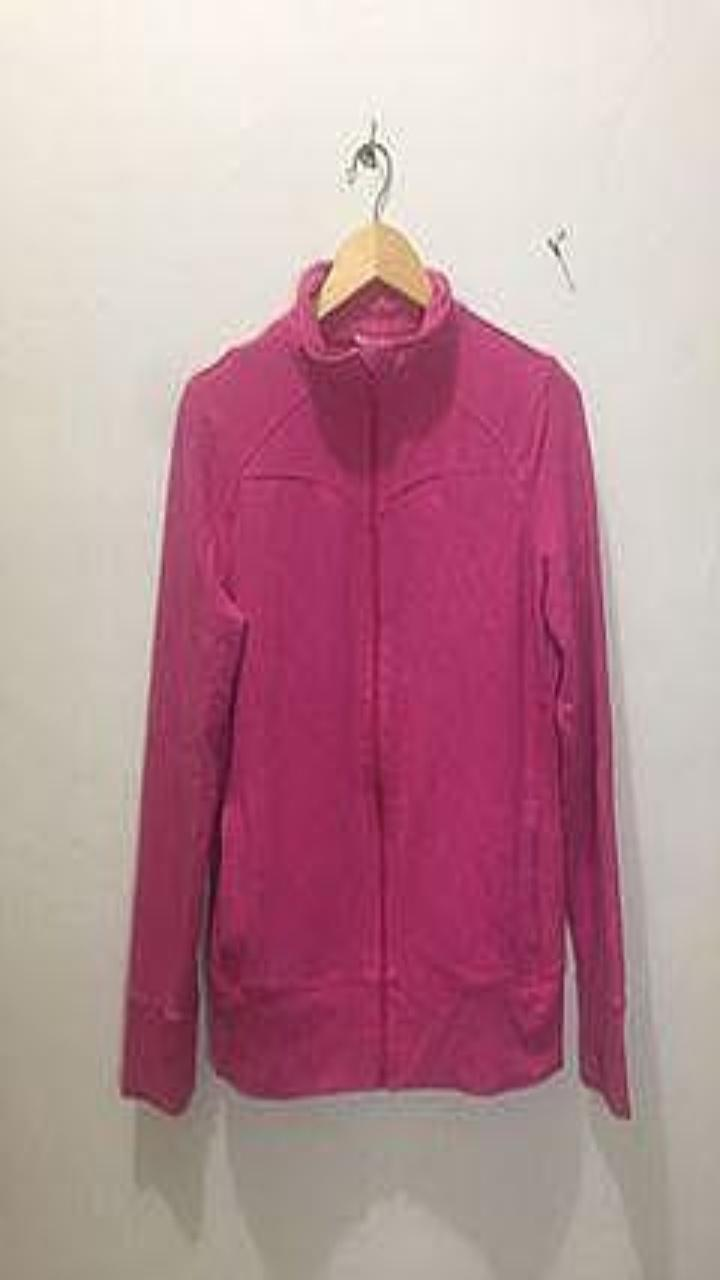Sports_Jacket: (120, 259, 629, 1116)
